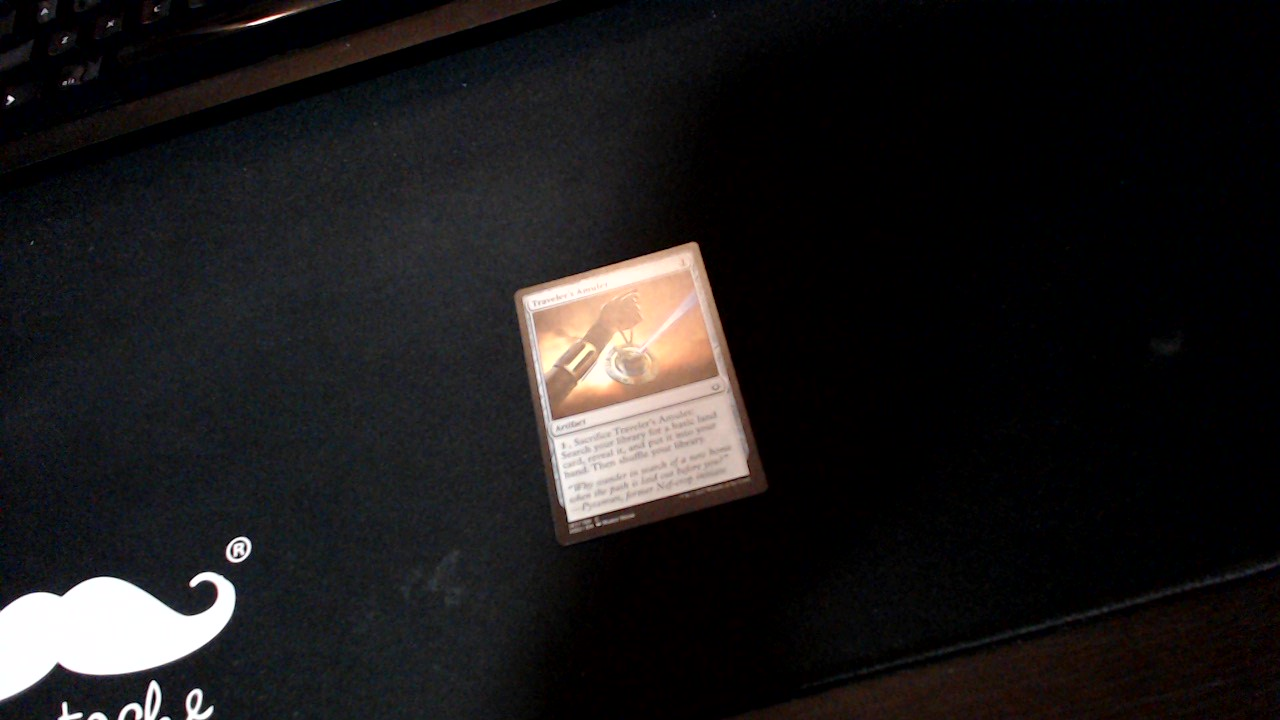MTG Card: (507, 234, 782, 554)
